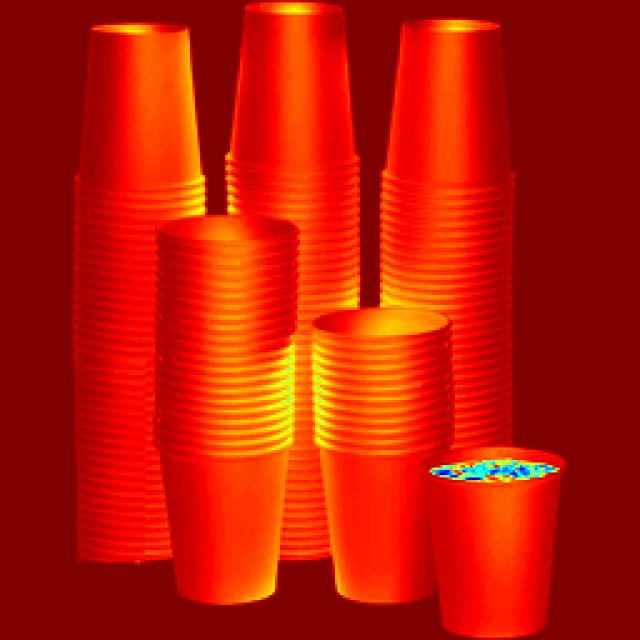Paper Cups: (46, 9, 582, 630)
